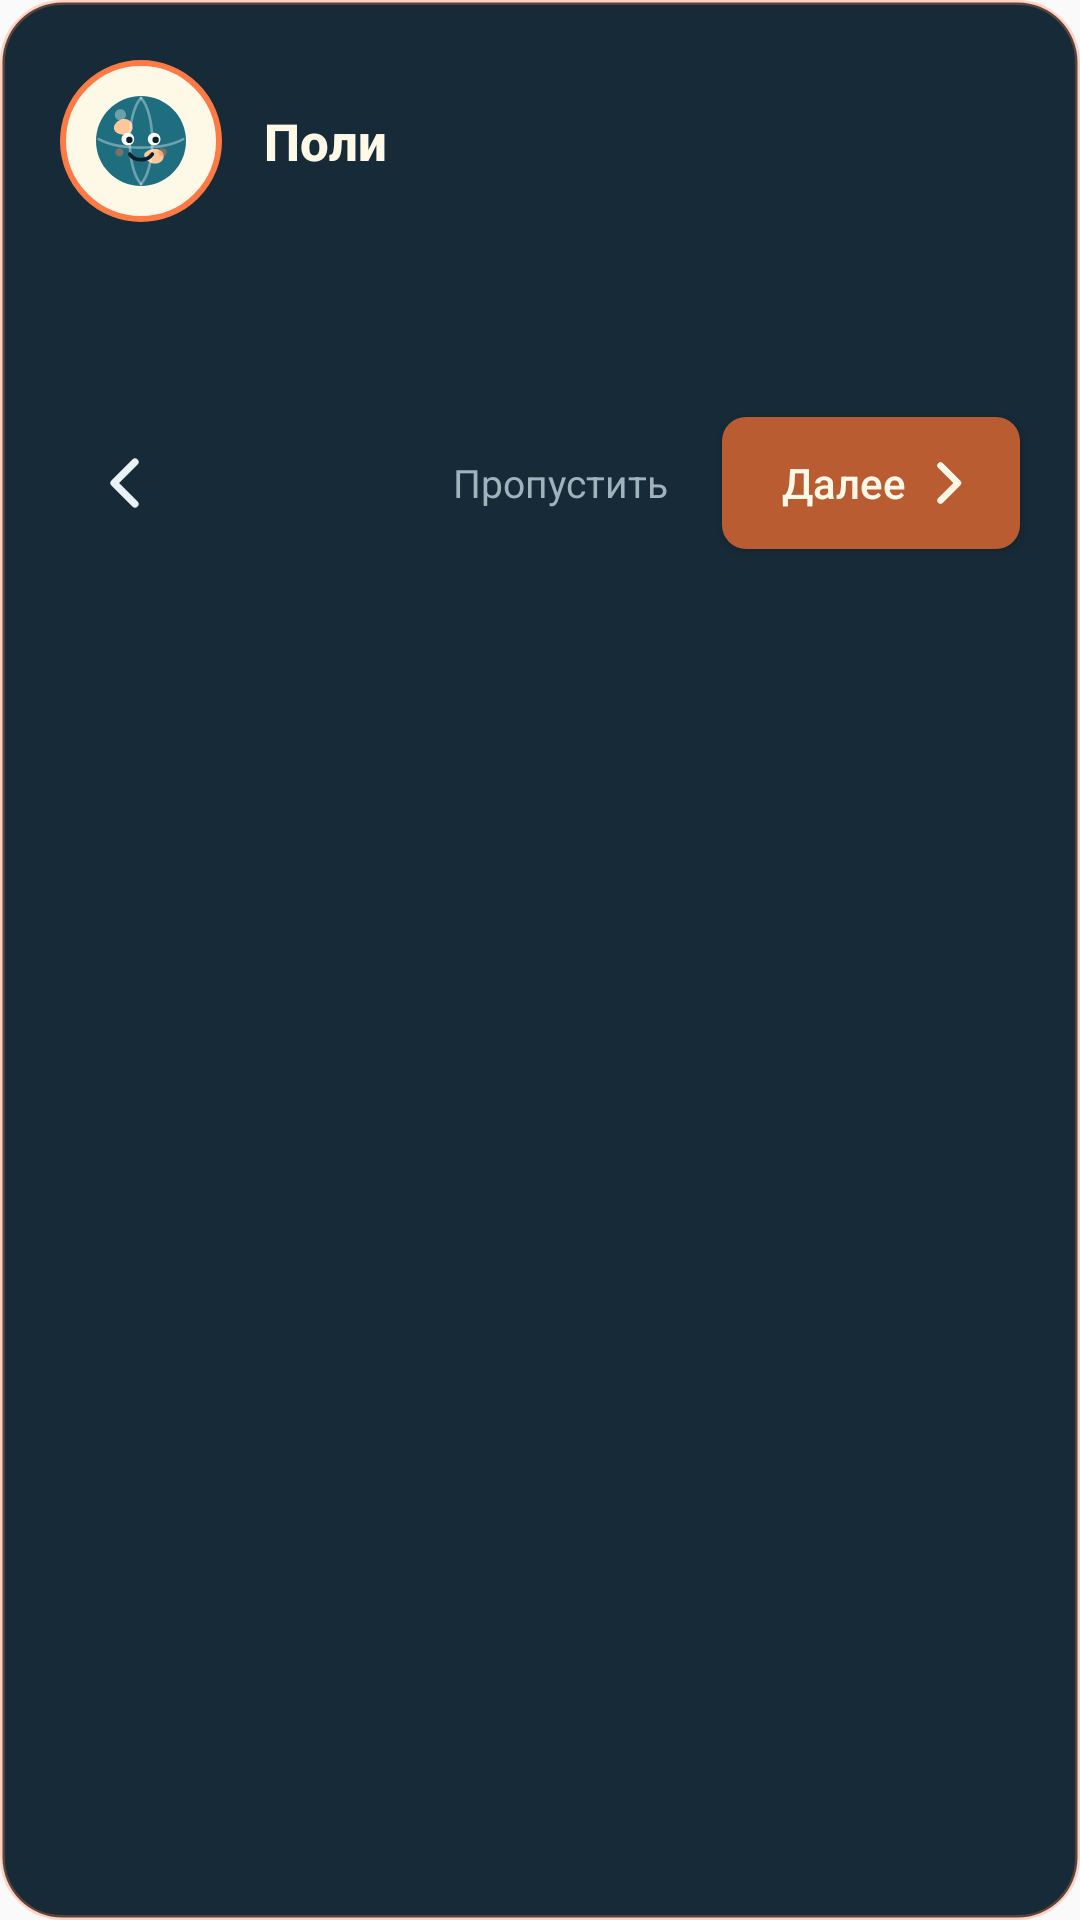

Where icons sit on this 1080 x 1920 app screen, as (x1, y1, x2, y2):
Назад: (110, 458, 139, 508)
